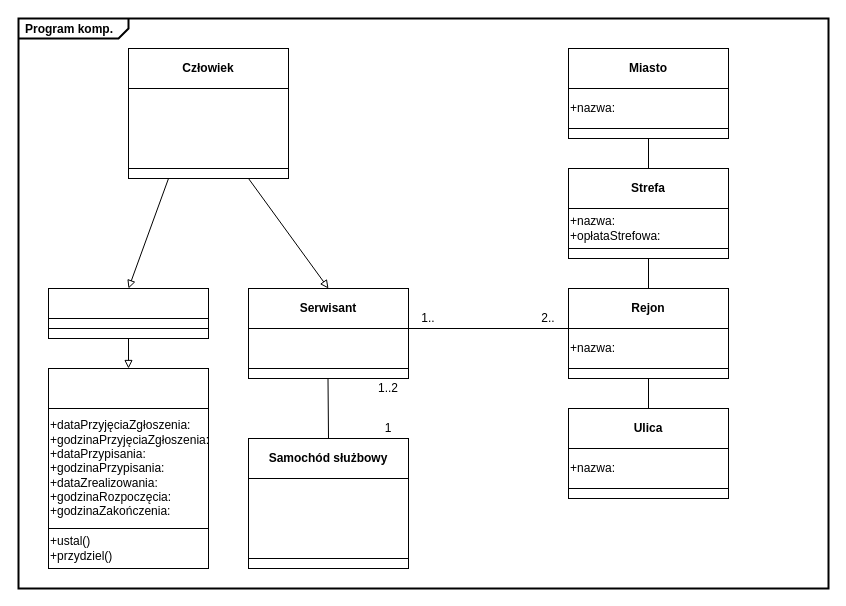
The diagram is 846 pixels wide and 606 high, and some of its shapes have lost their labels. The shapes that lost their labels are listed below. From the top down, each one's centre as x and y in pixels, then its label:
the point at 208,128: +imie: +nazwisko: +adres: +telefon:
the point at 128,303: Klient
the point at 328,348: +dataUrodzenia:
the point at 128,388: Zgłoszenie
the point at 328,518: +marka: +typ: +numerRejestracyjny: +pojemność: +przebieg:
